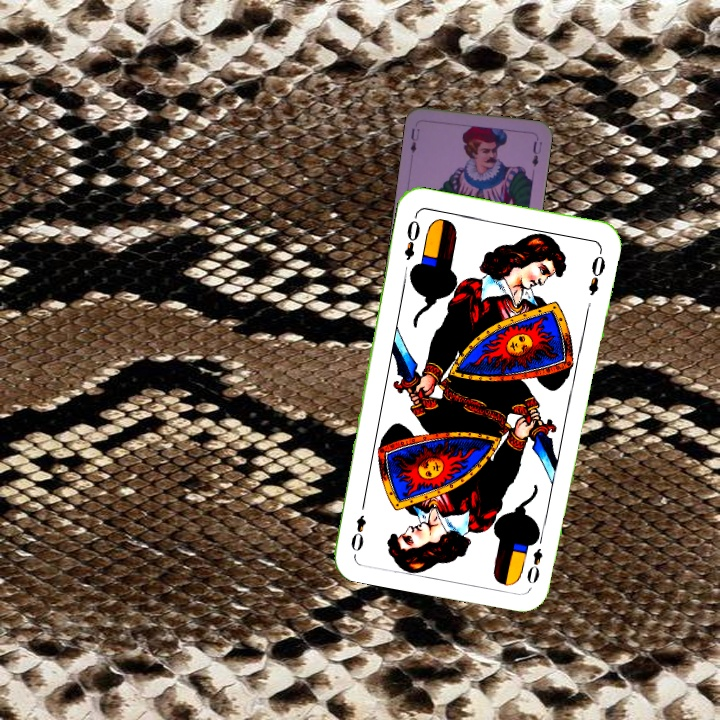EO: (400, 211, 423, 263), (523, 544, 546, 587)
EU: (406, 124, 422, 160)
